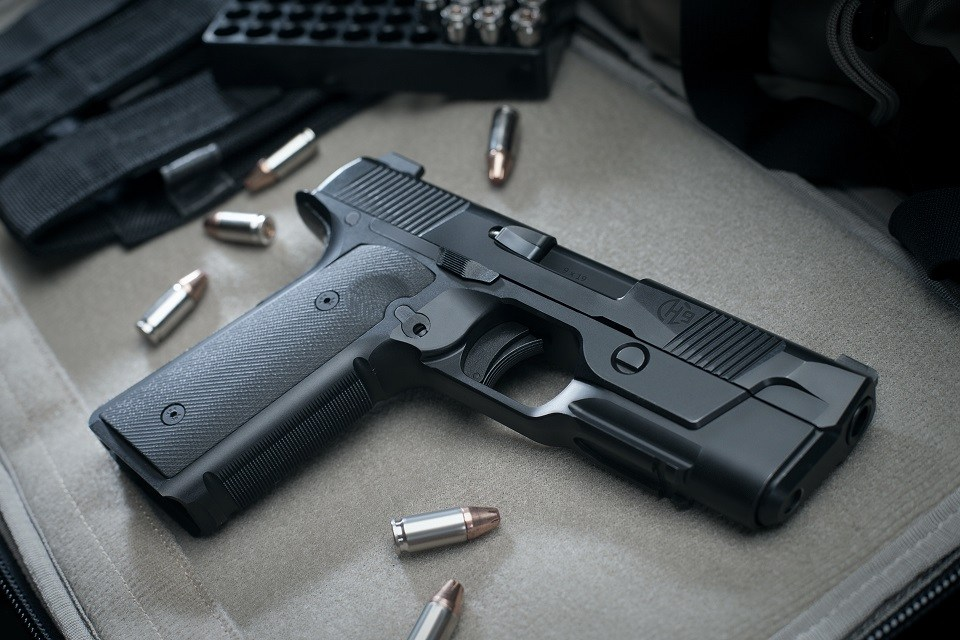gun: (75, 146, 887, 566)
